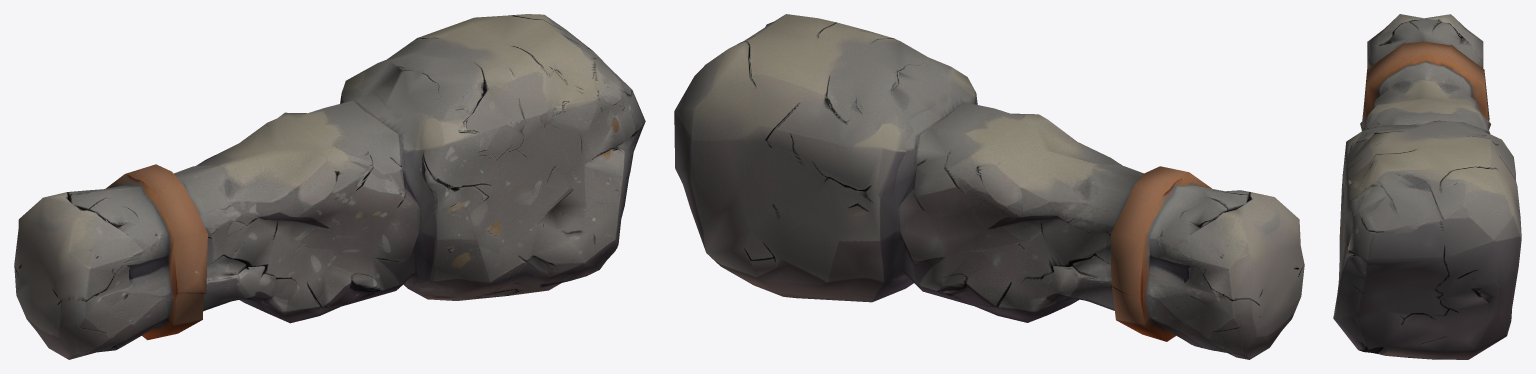
File: weapon_rock_1500.glb
3 views of the same model, side by side, from view 1: azimuth 30°, elevation 25°; view 2: azimuth 150°, elevation 25°; view 3: azimuth 270°, elevation 25° (orthographic). The views are drawn at different scales.
Parts seen in each view (by area): view 1: tripo_node_a5e80c61-8244-45b8-9a6d-852d3d8b2c3f; view 2: tripo_node_a5e80c61-8244-45b8-9a6d-852d3d8b2c3f; view 3: tripo_node_a5e80c61-8244-45b8-9a6d-852d3d8b2c3f.
Boxes of the visible parts, x1=… form: tripo_node_a5e80c61-8244-45b8-9a6d-852d3d8b2c3f: x1=14, y1=14, x2=645, y2=359; tripo_node_a5e80c61-8244-45b8-9a6d-852d3d8b2c3f: x1=674, y1=14, x2=1304, y2=359; tripo_node_a5e80c61-8244-45b8-9a6d-852d3d8b2c3f: x1=1333, y1=14, x2=1521, y2=359.
Size of the model in its own units: 0.9804 by 0.3852 by 0.331.
1 material, 1 textured.
